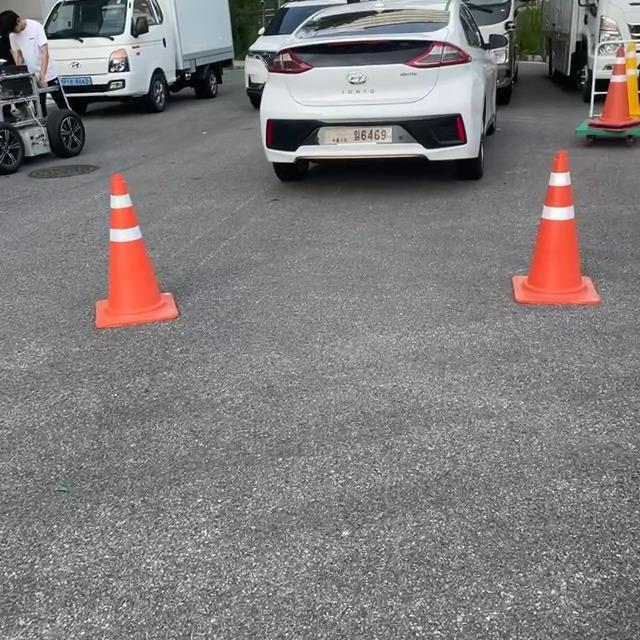fallen_object: (453, 143, 619, 332), (54, 170, 206, 338), (579, 50, 640, 147)
